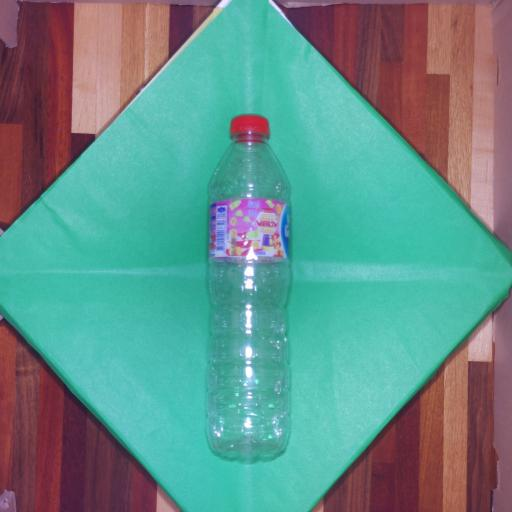bottle: (212, 113, 292, 456)
